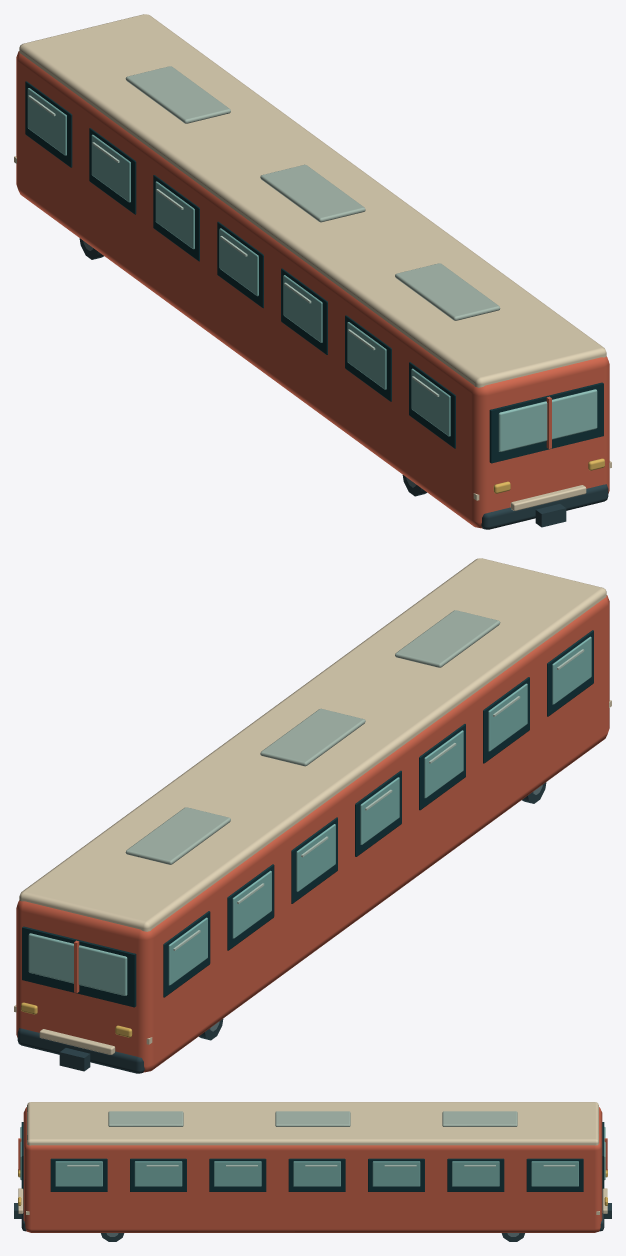
The model's file is movingTrain.glb.
3 renders of one model, top to bottom at view 1: azimuth 30°, elevation 25°; view 2: azimuth 150°, elevation 25°; view 3: azimuth 270°, elevation 25°, orthographic. The views are drawn at different scales.
Visible parts, largest first — view 1: item-movingTrain; view 2: item-movingTrain; view 3: item-movingTrain.
Boxes of the visible parts, left/top/right/bottom form: item-movingTrain: left=14, top=14, right=611, bottom=529; item-movingTrain: left=14, top=558, right=611, bottom=1073; item-movingTrain: left=14, top=1102, right=611, bottom=1241.
Size of the model in its own units: 2.52 by 2.78 by 14.32.
